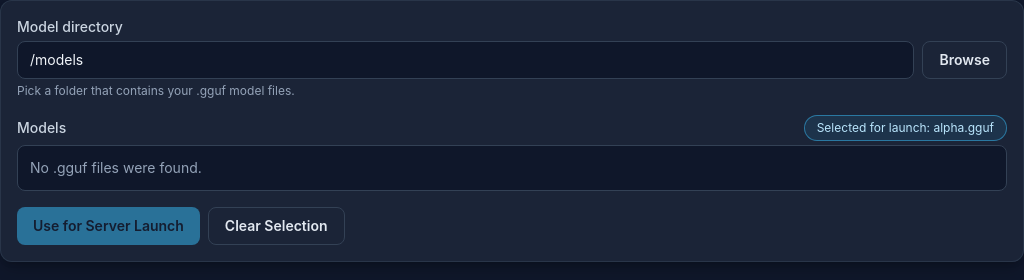
Test: ModelsTab › Unload clears the model selection
What coordinates should you click on to do the following:
click the button with test id "unload-model"
I would click on:
 (276, 226)
Its box is x1=208 y1=207 x2=344 y2=245.
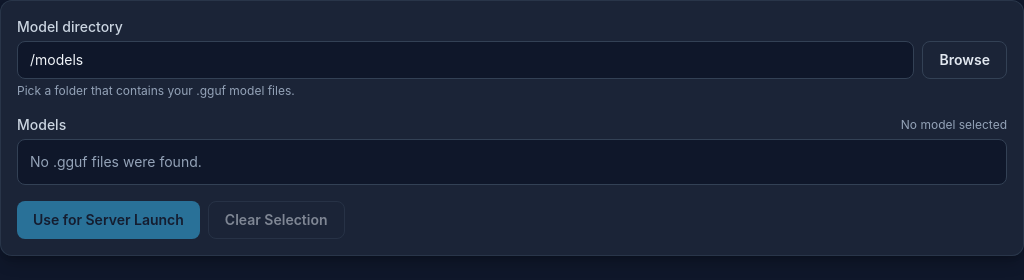
expect the text with test id "loaded-model-indicator" reads "No model selected": met, box x1=901 y1=117 x2=1007 y2=132
